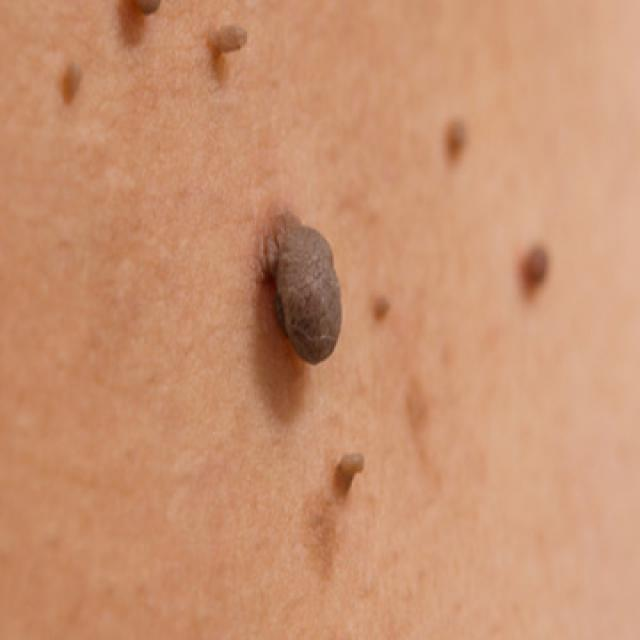wart: (250, 201, 362, 366), (518, 230, 574, 302), (201, 14, 258, 71), (436, 114, 480, 169), (329, 444, 375, 496), (53, 51, 96, 105), (368, 286, 406, 331), (119, 0, 169, 18)
